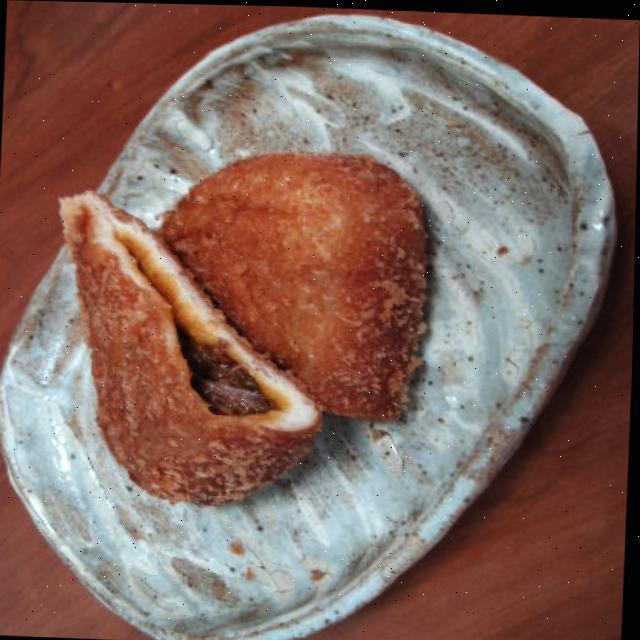三明治: (32, 135, 445, 519)
